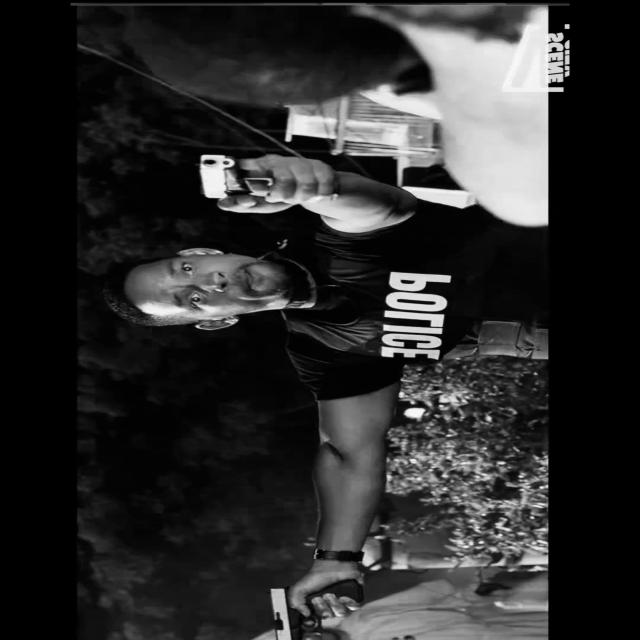weapons: (165, 147, 348, 215)
